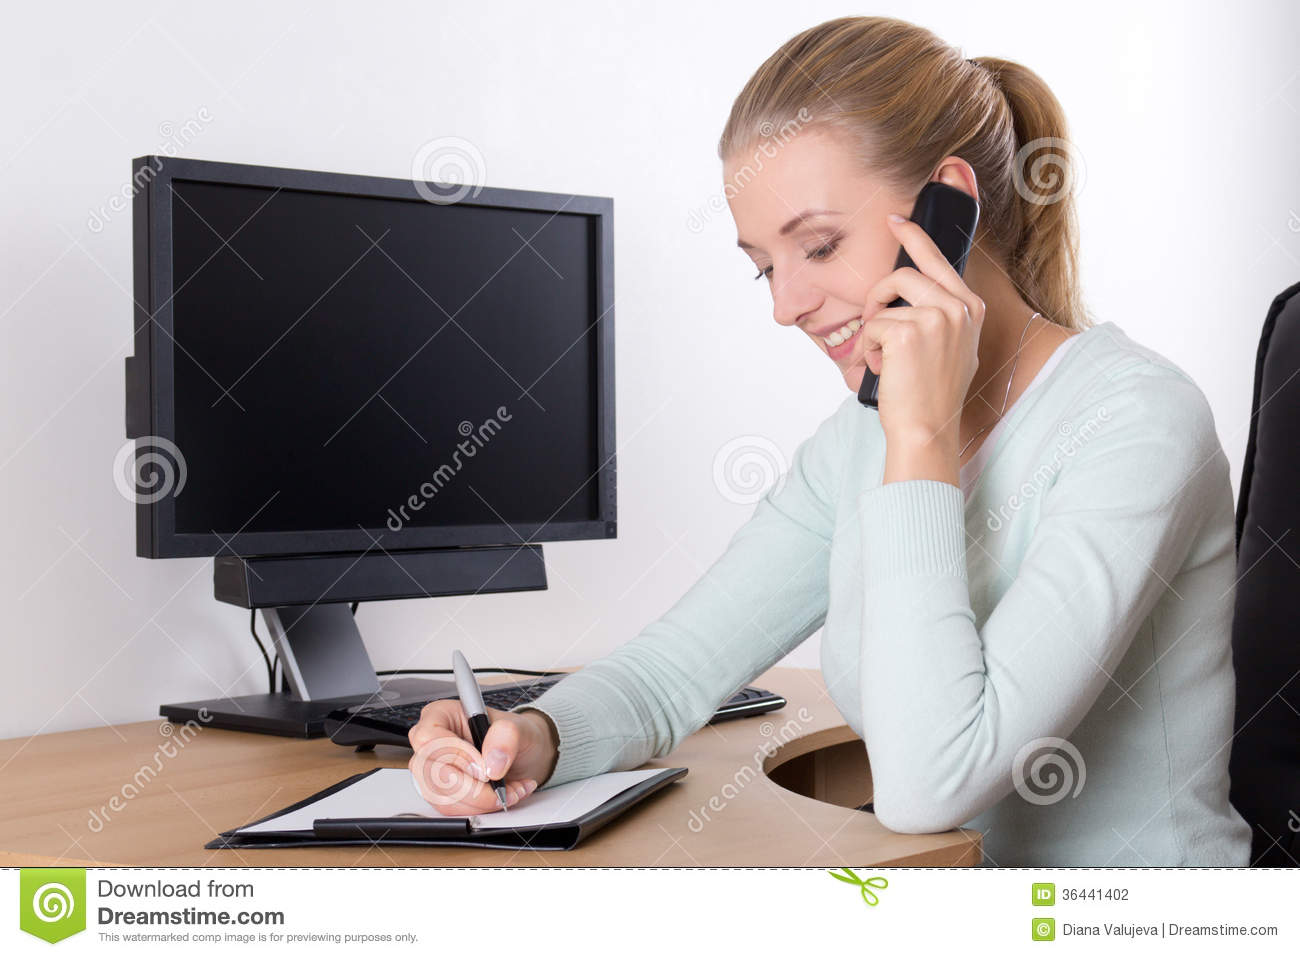phone: (857, 181, 984, 419)
talk: (736, 175, 993, 492)
